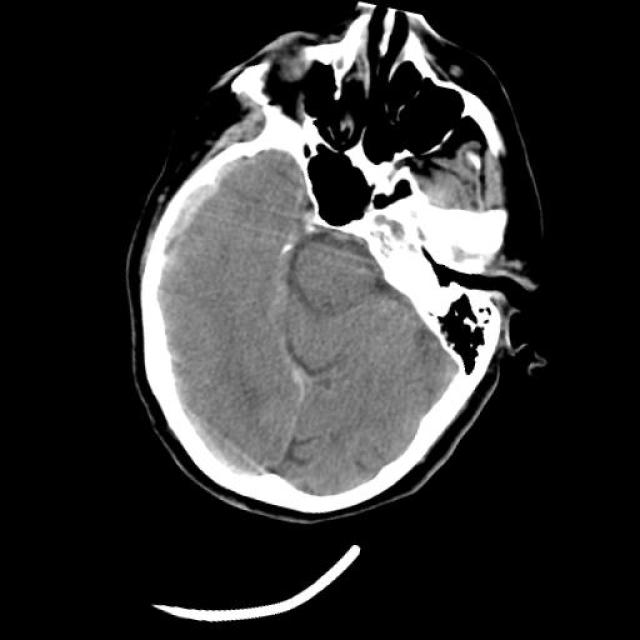Subdural: (112, 129, 248, 412)
